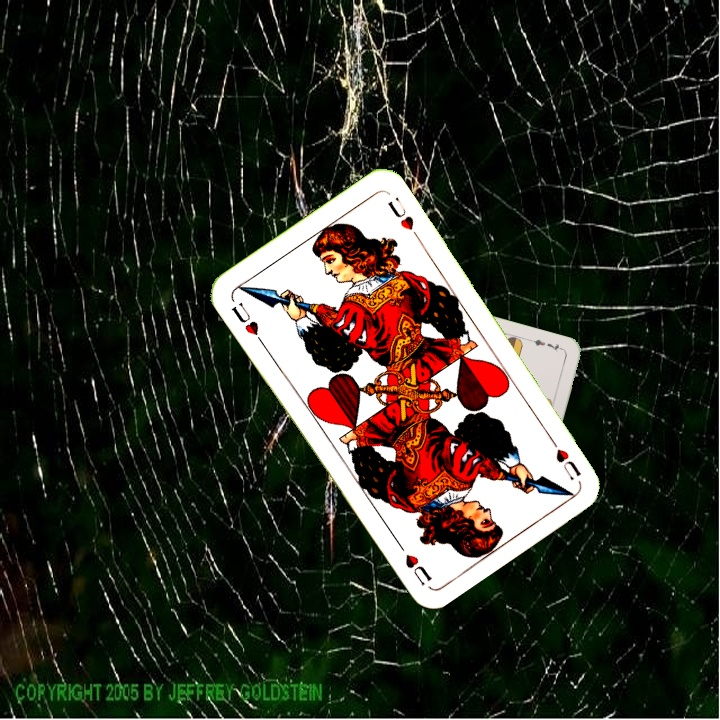E7: (526, 335, 566, 353)
HU: (544, 431, 584, 483), (227, 298, 267, 347)
